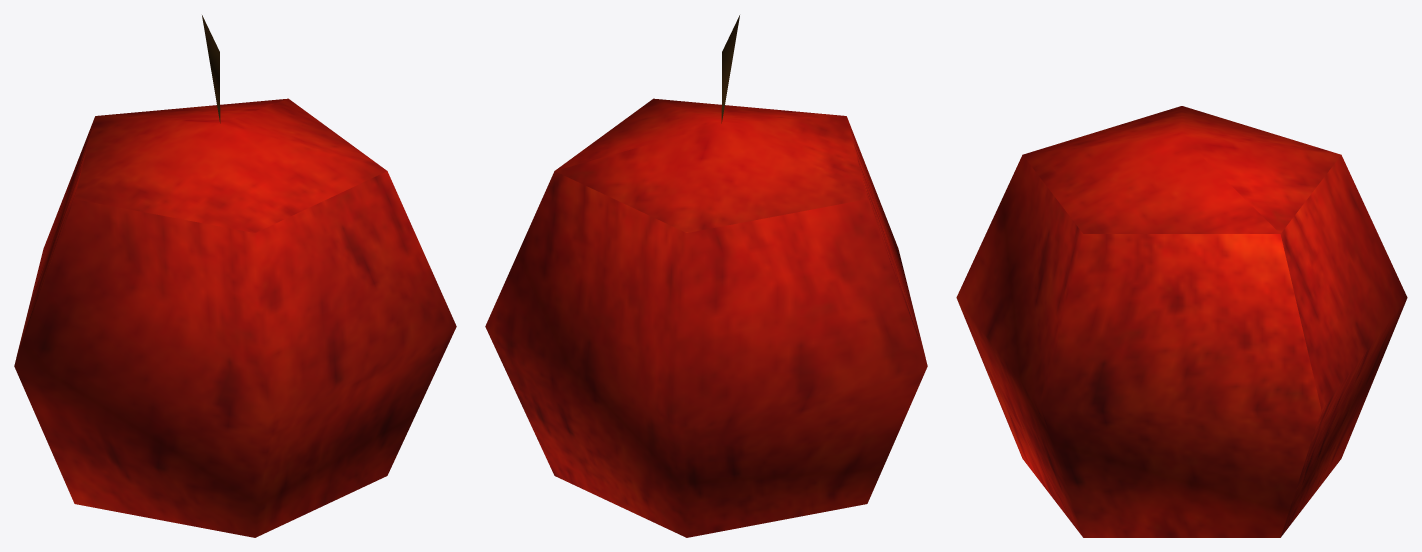
File: apple_red.fbx
The picture shows the model from 3 angles, left to right: view 1: azimuth 30°, elevation 25°; view 2: azimuth 150°, elevation 25°; view 3: azimuth 270°, elevation 25°; orthographic projection.
Parts seen in each view (by area): view 1: apple_red; view 2: apple_red; view 3: apple_red.
Boxes of the visible parts, x1,y1,x2,y2 form: apple_red: (14,15,456,537); apple_red: (485,15,927,537); apple_red: (956,106,1407,537).
Size of the model in its own units: 18.09 by 22.9 by 19.02.
1 material, 1 textured.
